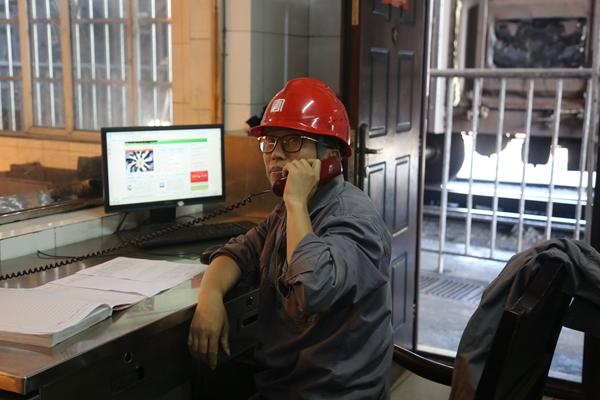red: (249, 76, 353, 191)
